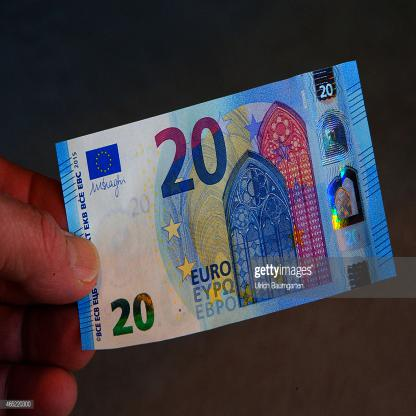euro_banknote: (52, 102, 392, 322)
